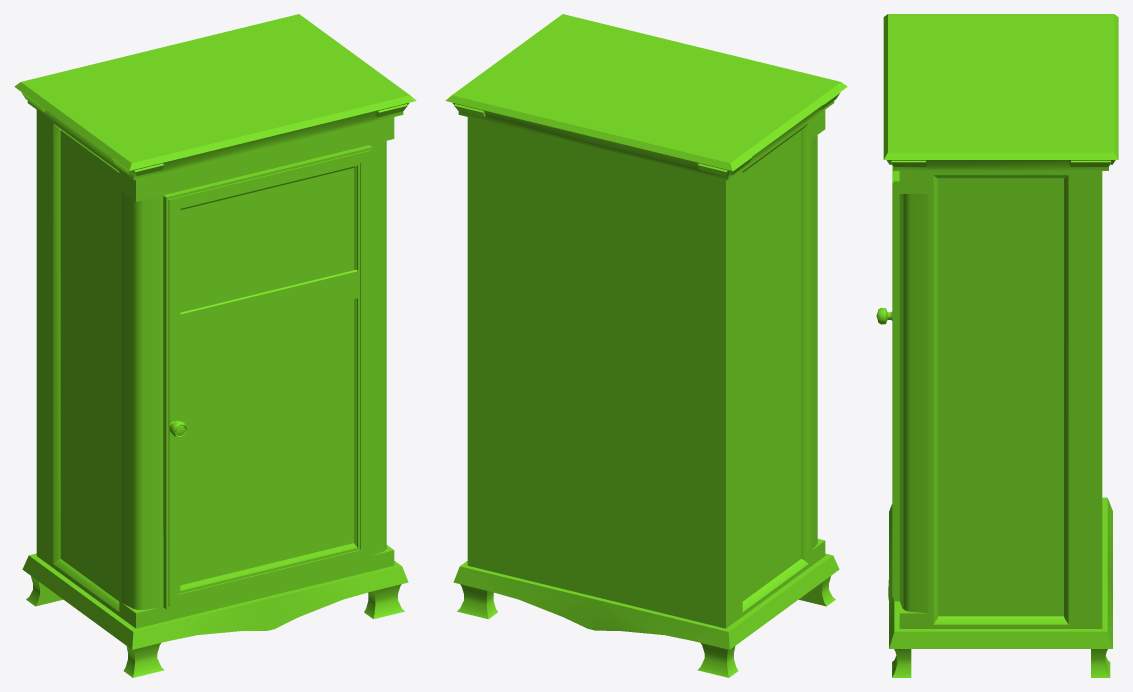
File: Closed-01.fbx
The picture shows the model from 3 angles, left to right: view 1: azimuth 30°, elevation 25°; view 2: azimuth 150°, elevation 25°; view 3: azimuth 270°, elevation 25°; orthographic projection.
Visible parts, largest first — view 1: Closed-01_low.001, Closed-Door-01_low.001; view 2: Closed-01_low.001; view 3: Closed-01_low.001, Closed-Door-01_low.001.
Boxes of the visible parts, box(x1,y1,x2,y2) form: Closed-01_low.001: box(14, 14, 416, 677); Closed-Door-01_low.001: box(163, 145, 372, 609); Closed-01_low.001: box(445, 14, 847, 677); Closed-01_low.001: box(883, 14, 1118, 677); Closed-Door-01_low.001: box(876, 166, 899, 601).
Bounding box in the file's own units: 133 × 95.51 × 229.
